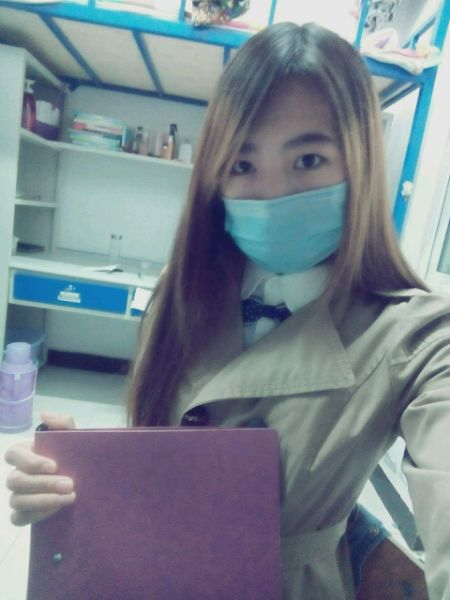face_mask: (225, 96, 346, 275)
